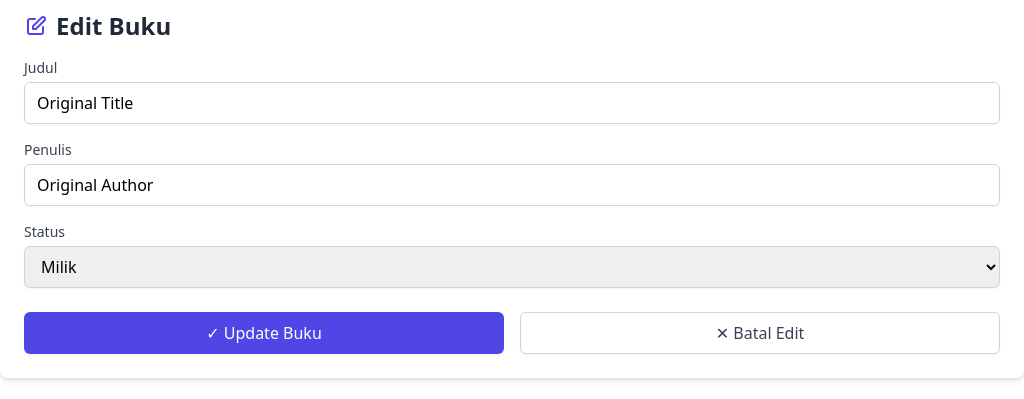
Scenario: BookForm Component › Editing Book › updates book with new data
This screenshot has width=1024, height=399.
Replace the text in the field labelled "Judul" with "Updated Title": (512, 103) left=24, top=82, right=1000, bottom=124
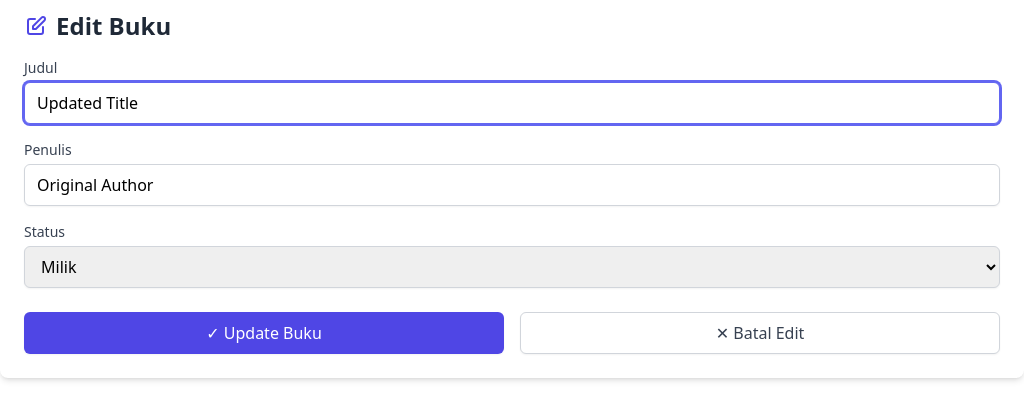
Click the button "✓ Update Buku": (264, 333) left=24, top=312, right=504, bottom=354
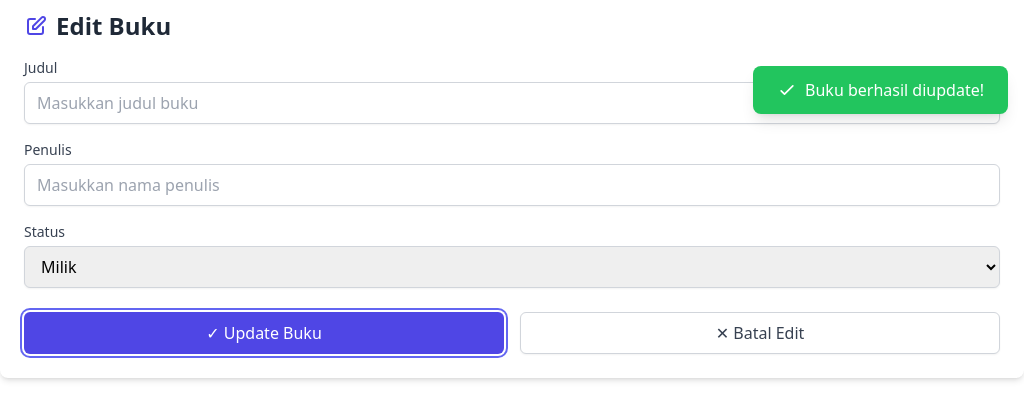
Now the text "Buku berhasil diupdate!" is shown, box left=753, top=66, right=1008, bottom=114
